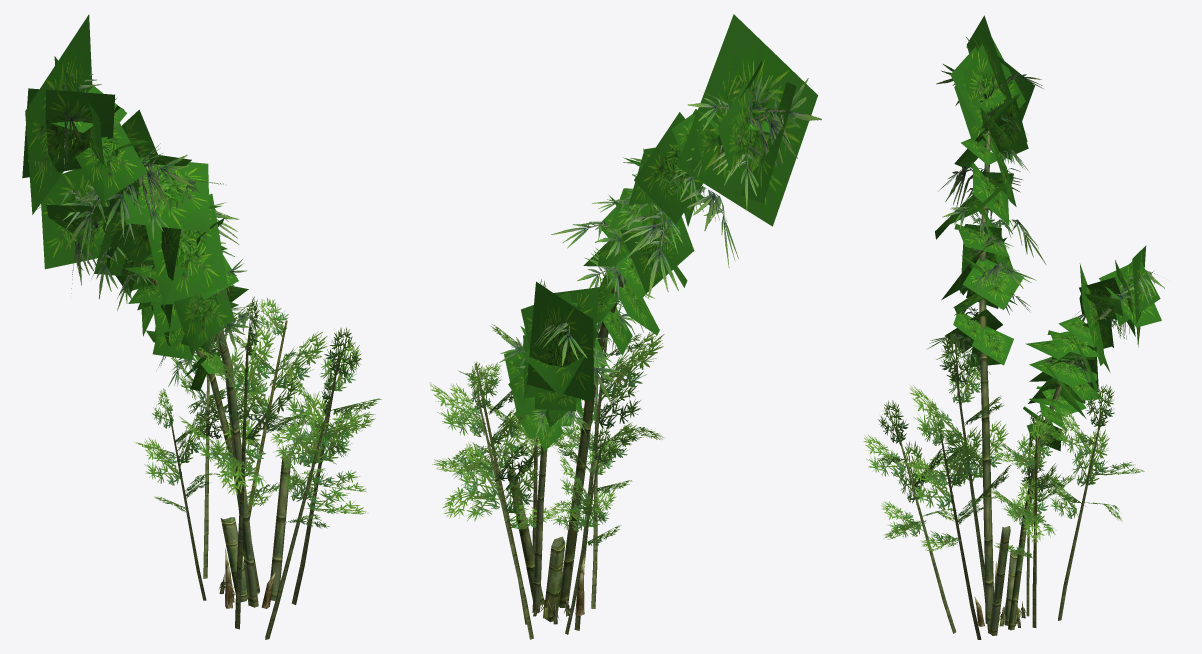
File: zhuzi_66.FBX
3 views of the same model, side by side, from view 1: azimuth 30°, elevation 25°; view 2: azimuth 150°, elevation 25°; view 3: azimuth 270°, elevation 25° (orthographic). The views are drawn at different scales.
Parts seen in each view (by area): view 1: zhuzi_66; view 2: zhuzi_66; view 3: zhuzi_66.
Boxes of the visible parts, x1,y1,x2,y2 form: zhuzi_66: [22, 14, 381, 639]; zhuzi_66: [429, 14, 821, 639]; zhuzi_66: [863, 15, 1164, 639].
Bounding box in the file's own units: 1022 × 1767 × 956.
